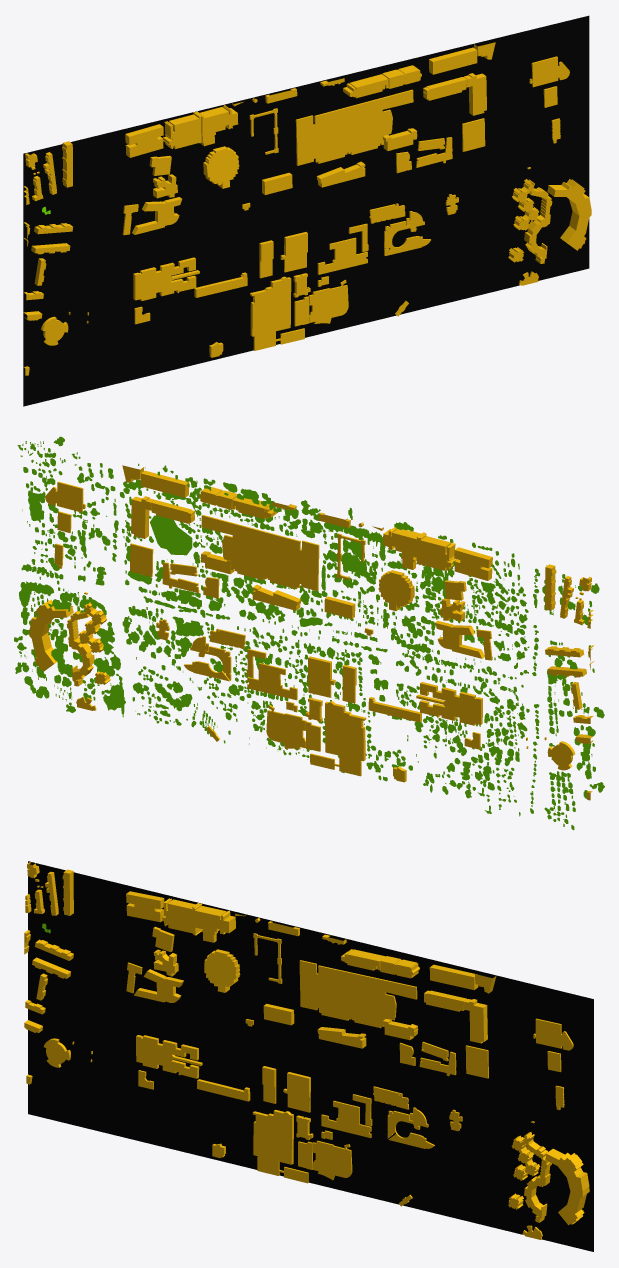
Rendered from new_trees_08.glb.
The picture shows the model from 3 angles, top to bottom: view 1: azimuth 30°, elevation 25°; view 2: azimuth 150°, elevation 25°; view 3: azimuth 330°, elevation 25°; orthographic projection.
Parts seen in each view (by area): view 1: Layer 04, existing_building - Copy; view 2: existing_building - Copy, new trees, treesurface; view 3: Layer 04, existing_building - Copy.
Part boxes in pixels (x1,y1,x2,y2): Layer 04: (23,15,589,406); existing_building - Copy: (23,42,591,375); existing_building - Copy: (29,465,593,800); new trees: (19,441,599,828); treesurface: (14,436,604,830); Layer 04: (28,861,593,1251); existing_building - Copy: (24,862,589,1239).
Bounding box in the file's own units: 1035 × 458 × 20.85.
